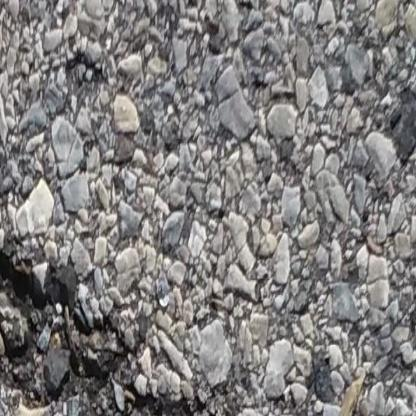Cracks: (0, 222, 255, 416)
